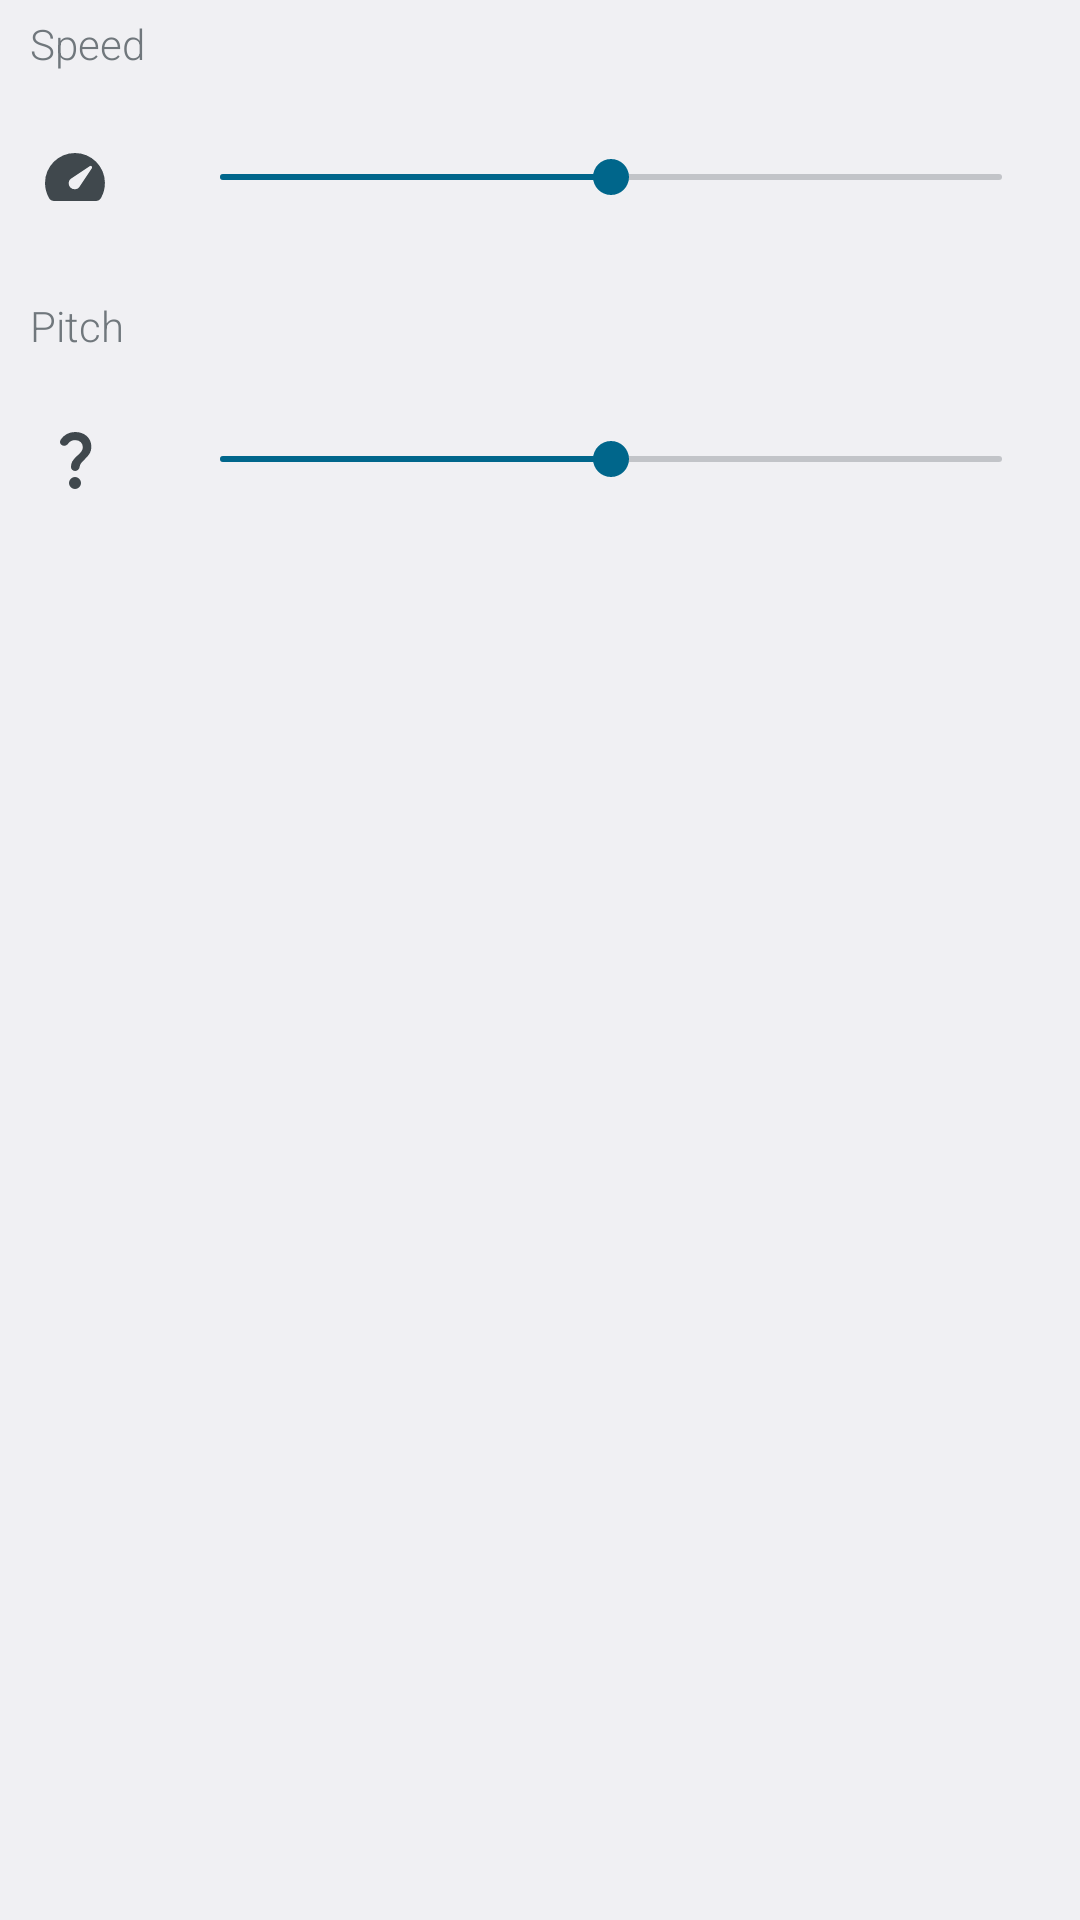

Where to tap for icons on this 1080×1920 app screen, as (x=x, y=y):
question mark: (x=76, y=460)
